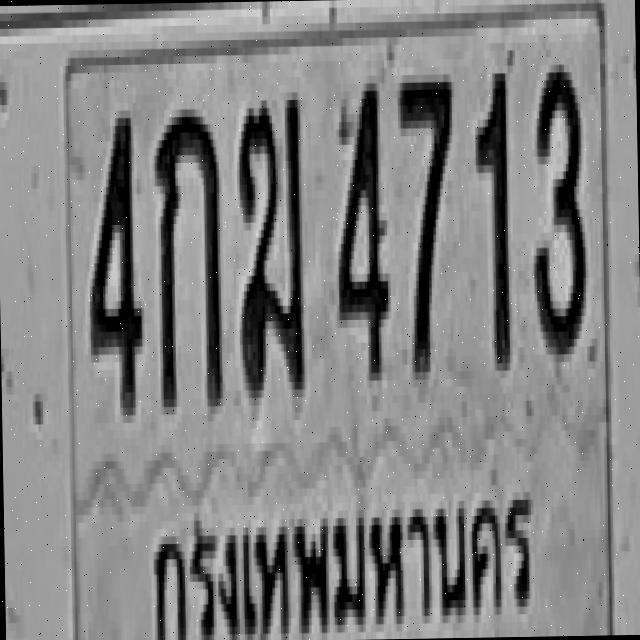1: (472, 65, 511, 371)
10GorGai: (153, 104, 223, 410)
15KhorRaKhang: (234, 92, 304, 398)
3: (530, 56, 587, 354)
4: (332, 75, 390, 381), (86, 110, 143, 416)
7: (397, 70, 456, 376)
Bangkok: (139, 476, 545, 640)
